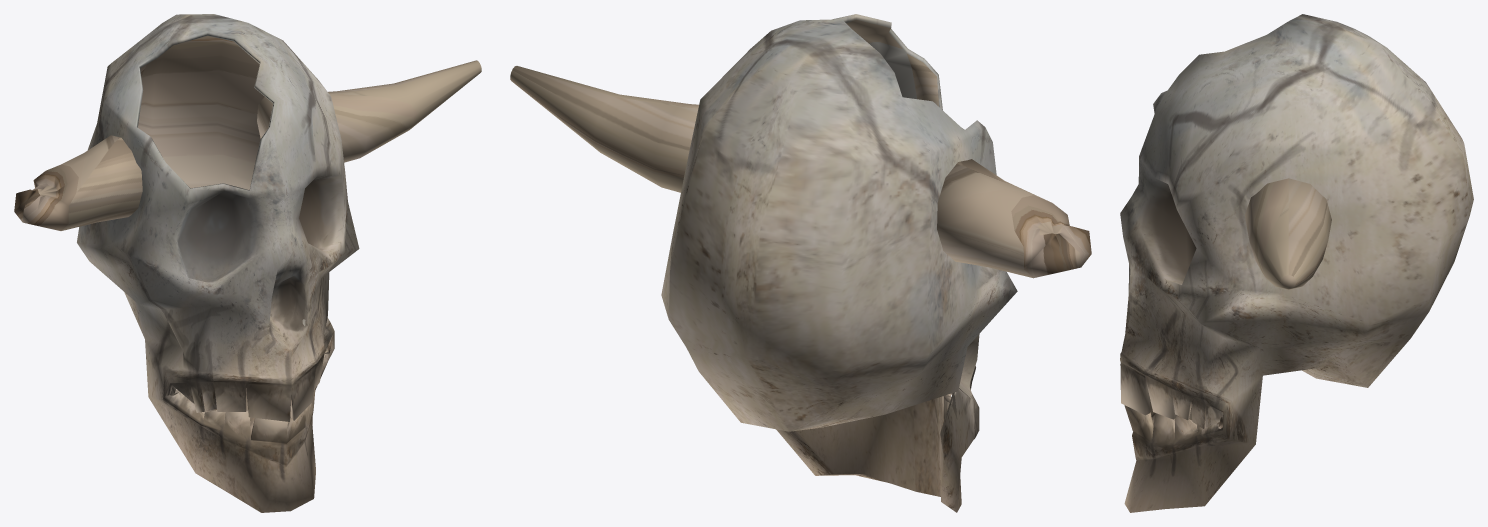
File: horned skull.obj
3 renders of one model, left to right at view 1: azimuth 30°, elevation 25°; view 2: azimuth 150°, elevation 25°; view 3: azimuth 270°, elevation 25°, orthographic. The views are drawn at different scales.
Parts seen in each view (by area): view 1: JotunSkullNormal; view 2: JotunSkullNormal; view 3: JotunSkullNormal.
Part boxes in pixels (<box>): JotunSkullNormal: <box>14,14,481,512</box>; JotunSkullNormal: <box>510,14,1091,512</box>; JotunSkullNormal: <box>1120,14,1473,512</box>.
Bounding box in the file's own units: 35.08 × 31.47 × 21.17.
